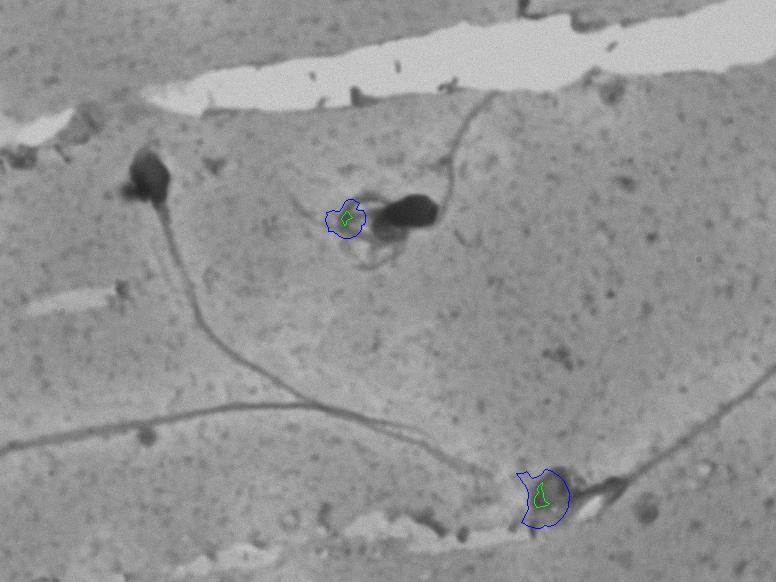Abnormal: (91, 142, 274, 367), (375, 91, 527, 273)
